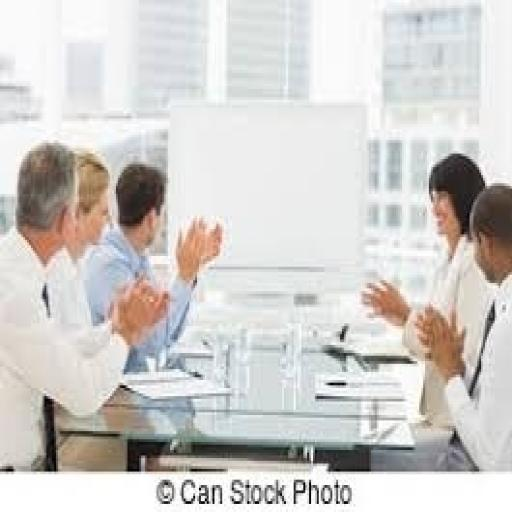clapping: (0, 138, 172, 472), (327, 156, 512, 414), (78, 124, 262, 372), (414, 180, 510, 472)
